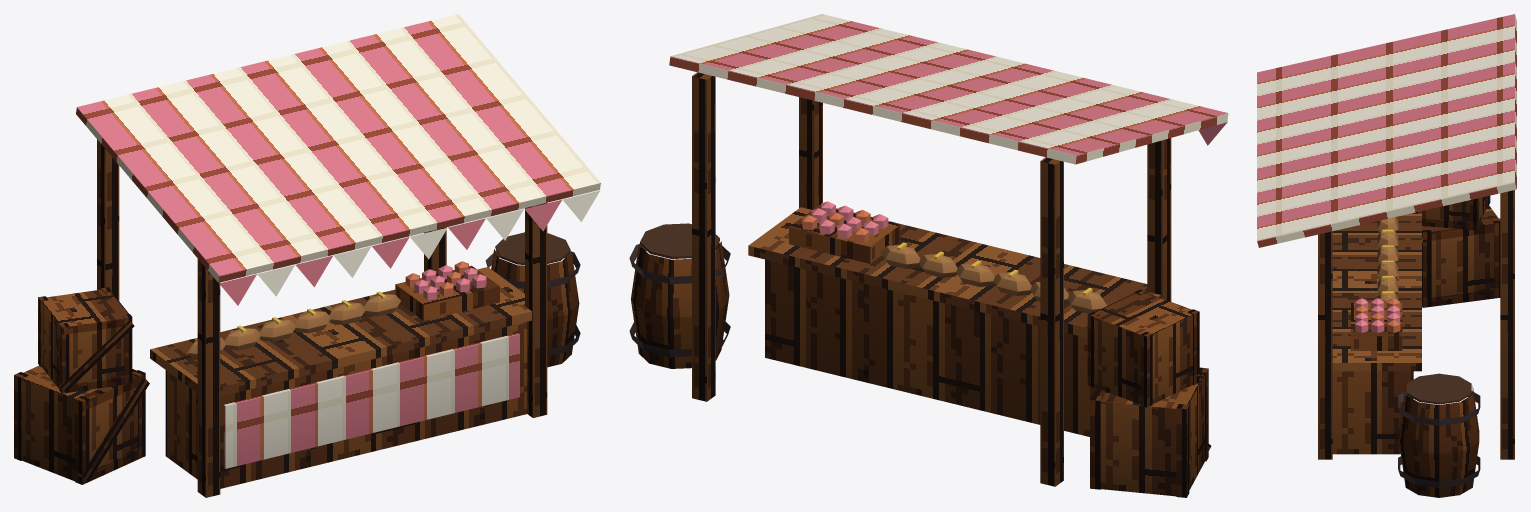
Rendered from market_stall.glb.
3 renders of one model, left to right at view 1: azimuth 30°, elevation 25°; view 2: azimuth 150°, elevation 25°; view 3: azimuth 270°, elevation 25°, orthographic. The views are drawn at different scales.
Parts seen in each view (by area): view 1: market_stall; view 2: market_stall; view 3: market_stall.
Boxes of the visible parts, box(x1,y1,x2,y2) form: market_stall: box(14, 14, 600, 497); market_stall: box(629, 14, 1228, 497); market_stall: box(1257, 14, 1516, 497).
Bounding box in the file's own units: 4.94 × 2.77 × 2.28.
3 materials, 2 textured.
